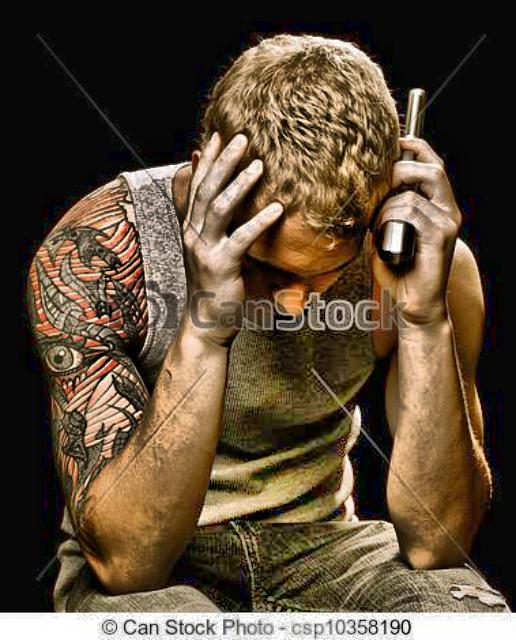pistol: (372, 84, 428, 274)
